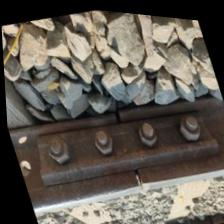person: (107, 148, 170, 207), (103, 101, 130, 127)
